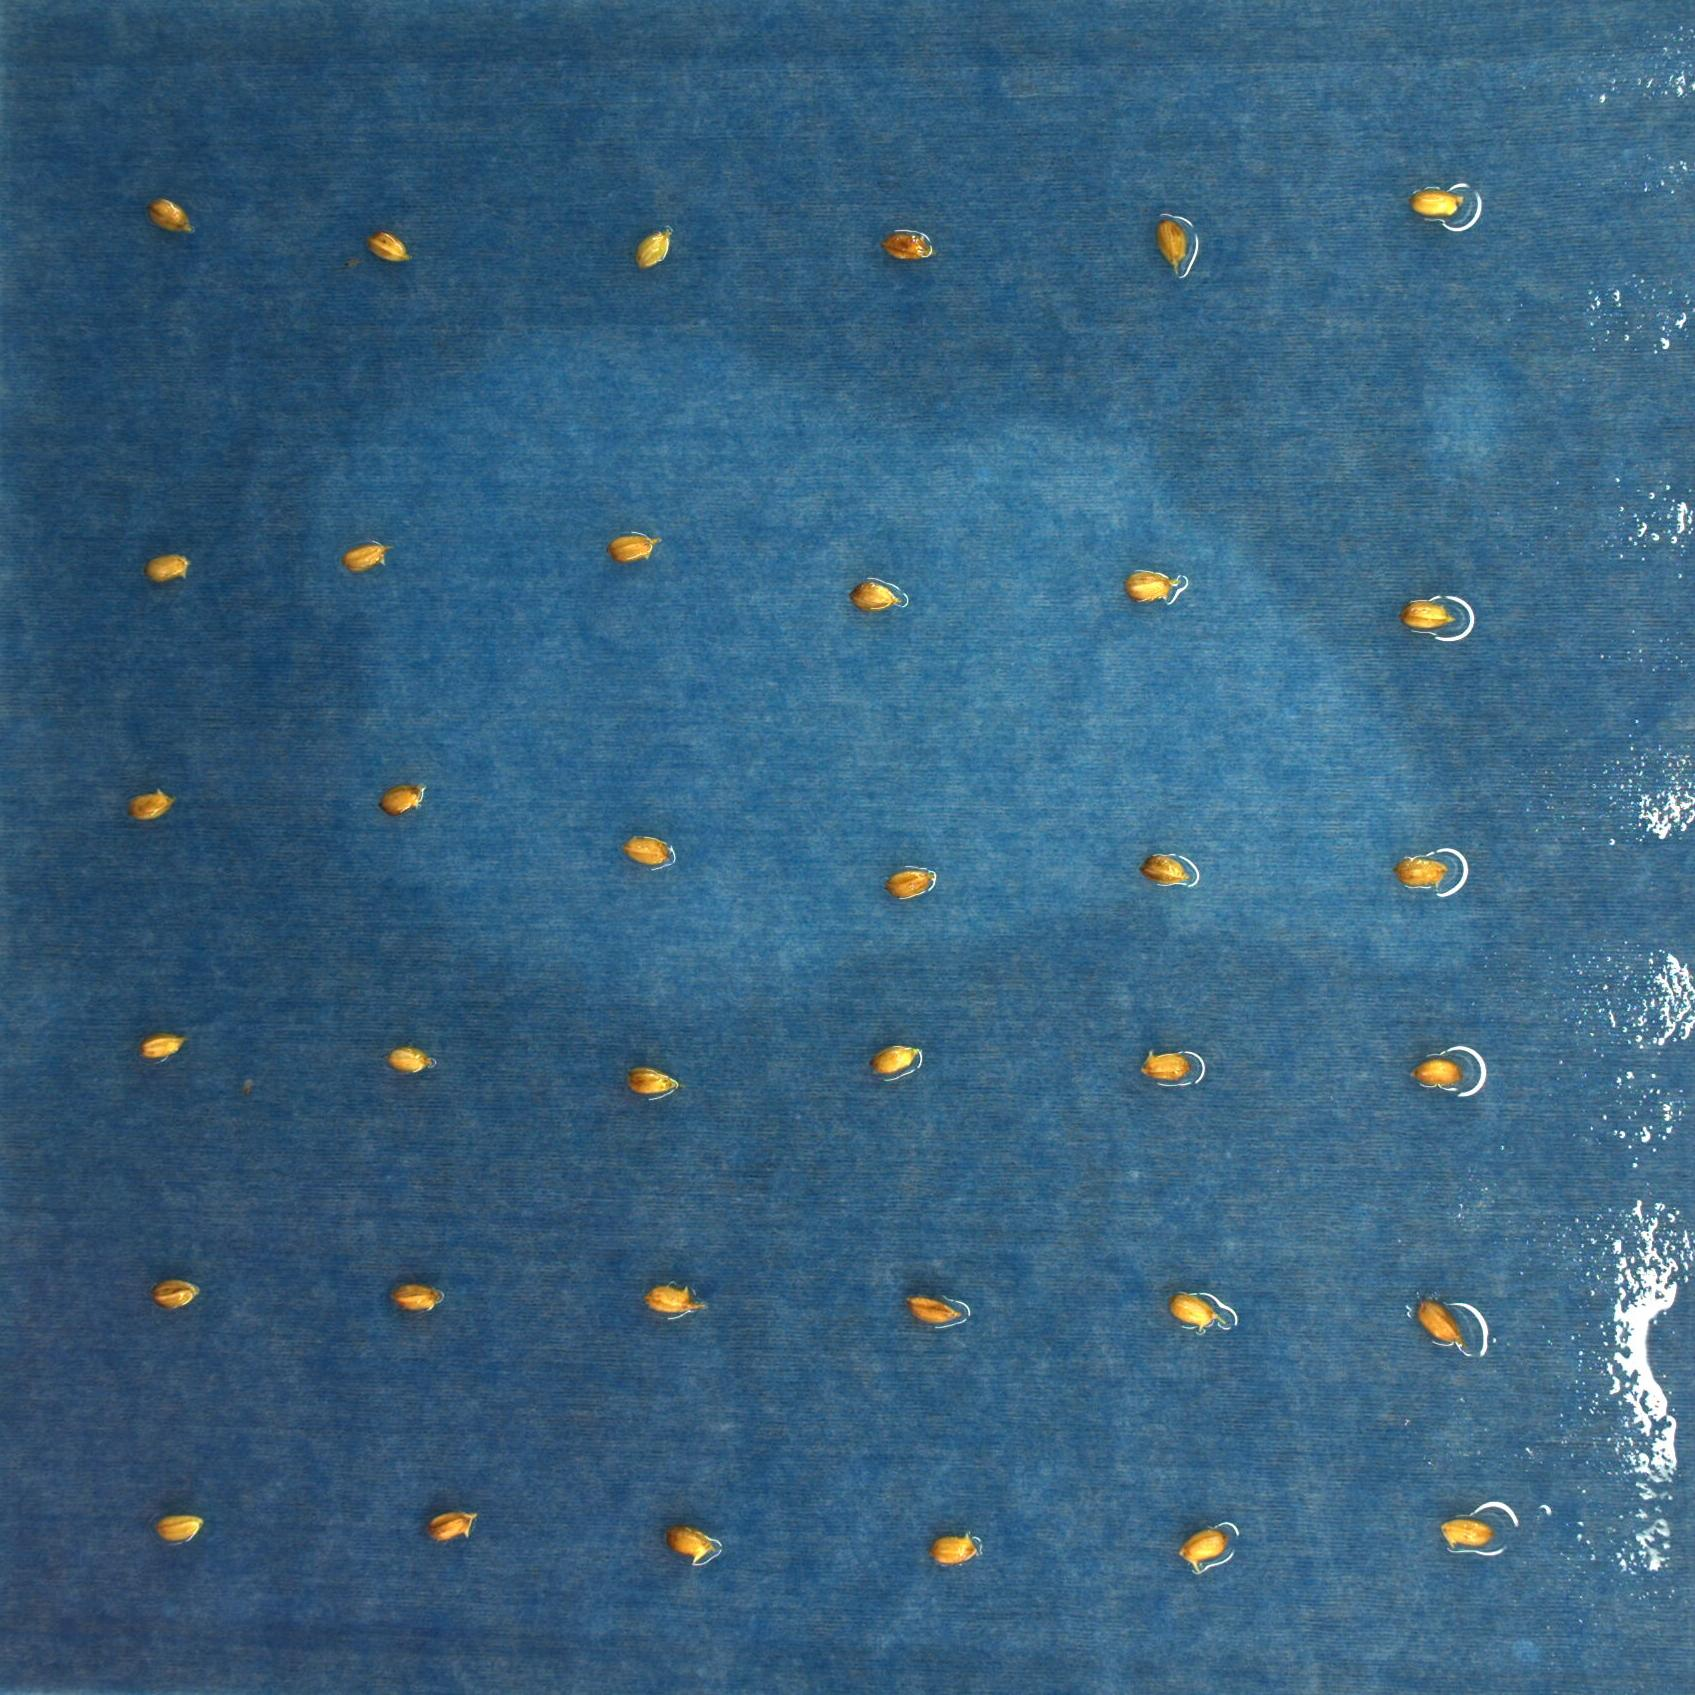not sprout: (1389, 843, 1453, 893), (644, 1281, 714, 1322), (1416, 1295, 1465, 1349), (1395, 591, 1459, 633), (1177, 1520, 1226, 1572), (1149, 216, 1195, 272), (899, 1291, 962, 1329), (1121, 567, 1181, 605), (1170, 1293, 1222, 1336), (425, 1506, 480, 1544), (882, 224, 938, 261), (144, 196, 196, 236), (627, 834, 675, 875), (343, 536, 393, 576), (1440, 1516, 1498, 1551), (1406, 196, 1471, 225), (383, 1040, 436, 1076), (607, 529, 661, 563), (624, 1066, 678, 1101), (1139, 854, 1198, 885), (674, 1524, 719, 1565), (936, 1529, 983, 1568), (1412, 1055, 1464, 1090), (633, 227, 677, 265), (893, 868, 939, 903), (872, 1038, 920, 1073), (1138, 1049, 1187, 1080), (147, 546, 192, 581), (393, 1282, 444, 1312), (365, 230, 408, 264), (154, 1512, 206, 1540), (157, 1277, 202, 1309), (852, 584, 906, 608), (132, 787, 175, 816), (376, 782, 424, 809), (140, 1034, 188, 1057)
